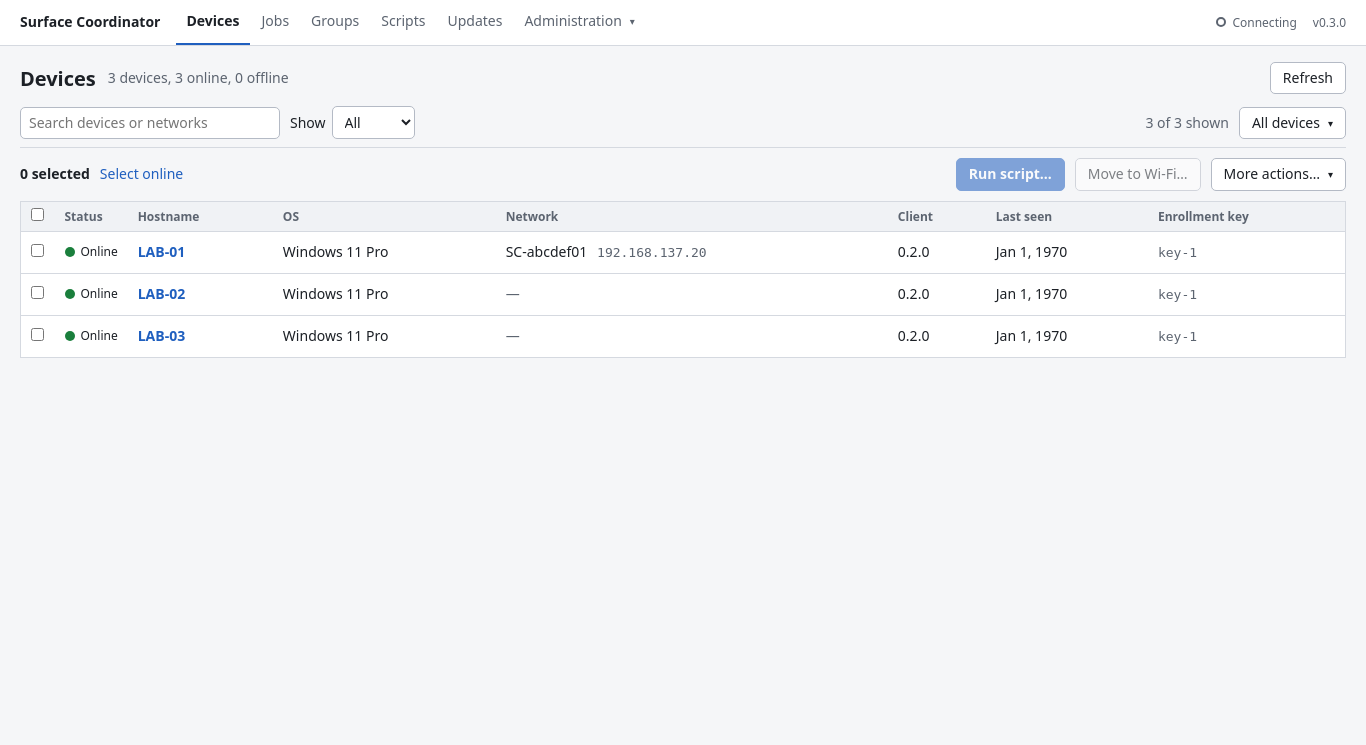
Test: Move to Wi-Fi › moves the selected devices: devices page, form, job page
Click the checkbox named "Select LAB-01": (38, 251) [31,244,44,257]
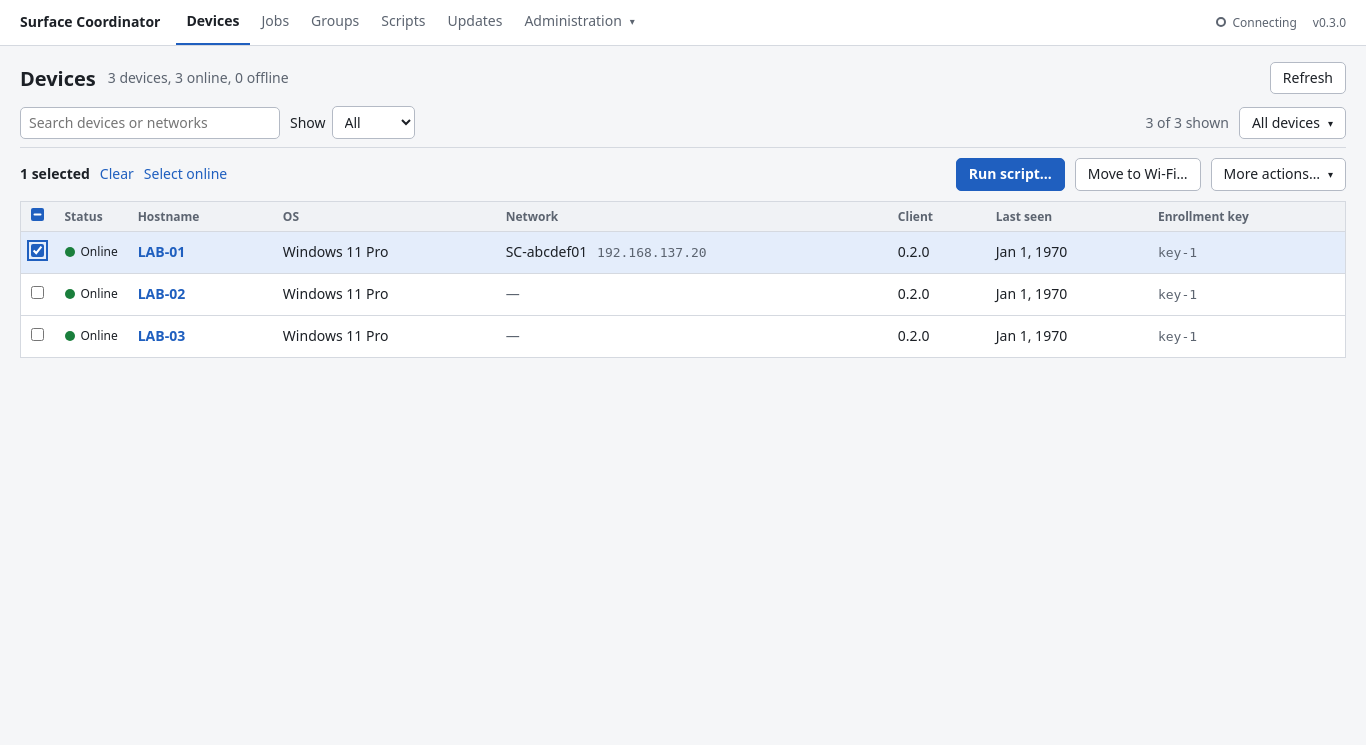
Click the checkbox named "Select LAB-03": (38, 334) [31,328,44,341]
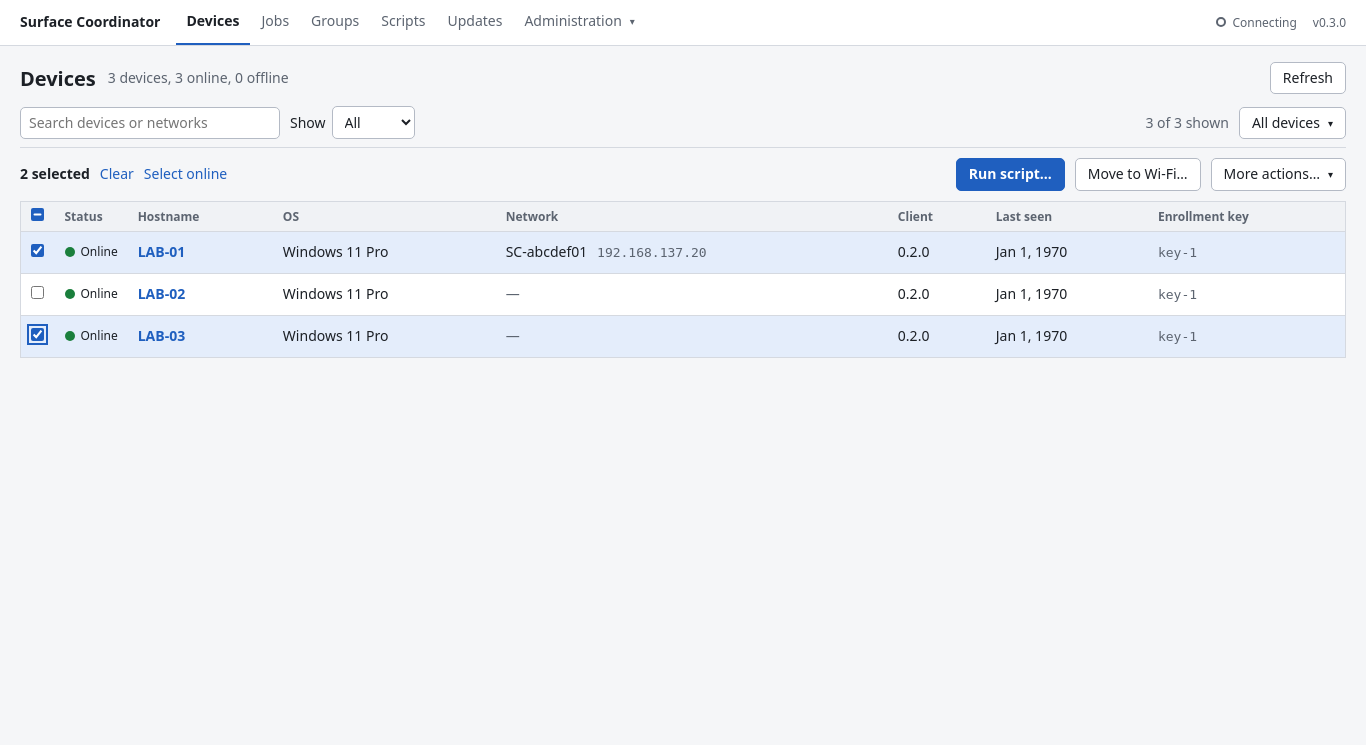
Click the button "Move to Wi-Fi…": (1138, 174) [1075,158,1201,191]
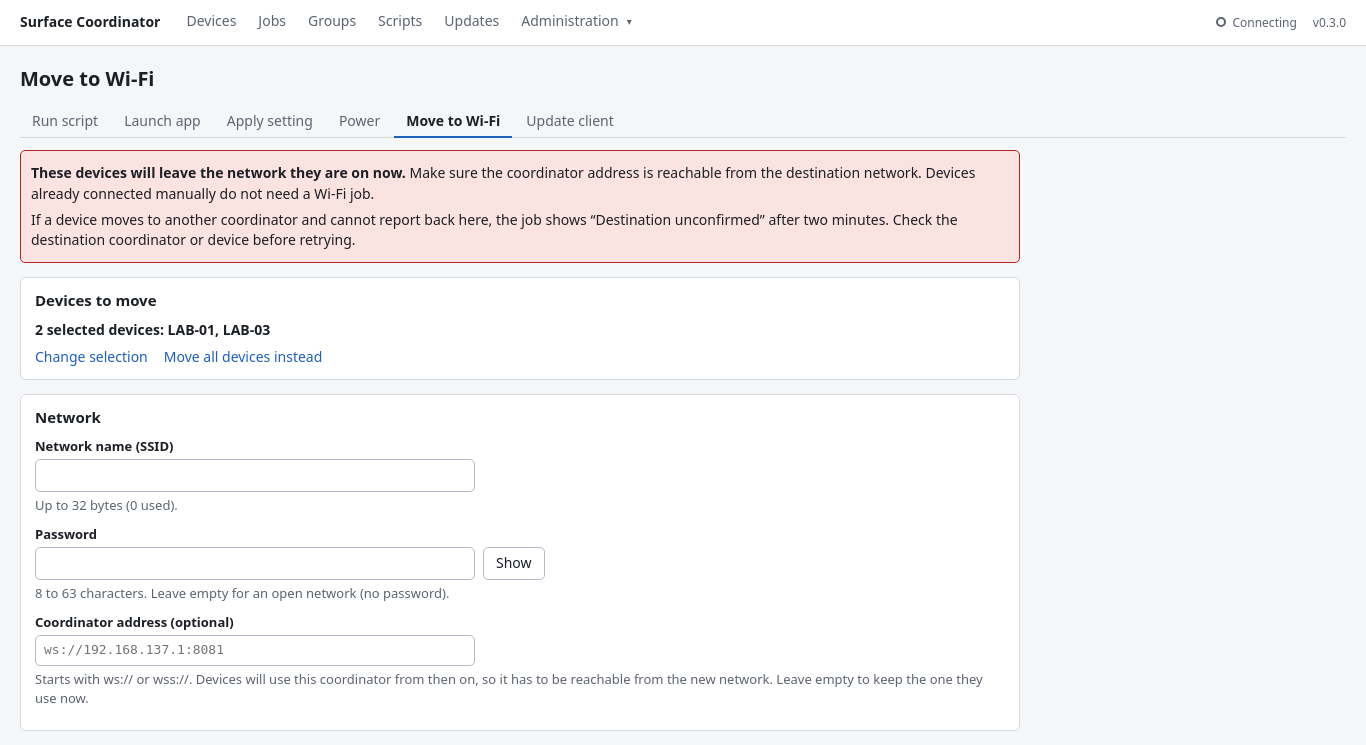
Check: the heading "Move to Wi-Fi" is shown, box [20,64,154,92]
Check: the text "2 selected devices: LAB-01, LAB-03" is shown, box [35,320,270,339]
In the field labelled "Network name (SSID)": (255, 476) [35,459,475,492], type "Classroom"
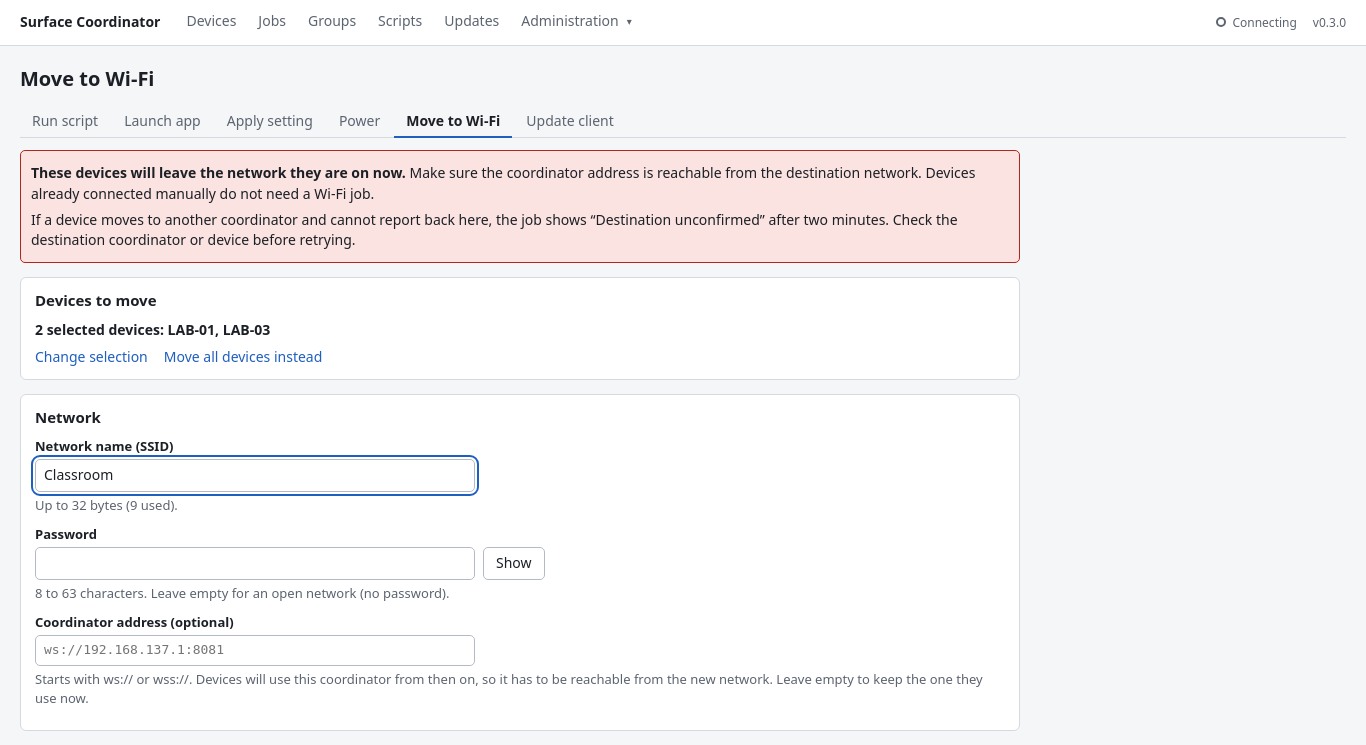
In the password field labelled "Password": (255, 564) [35,547,475,580], type "correct horse"
(page scrolled)
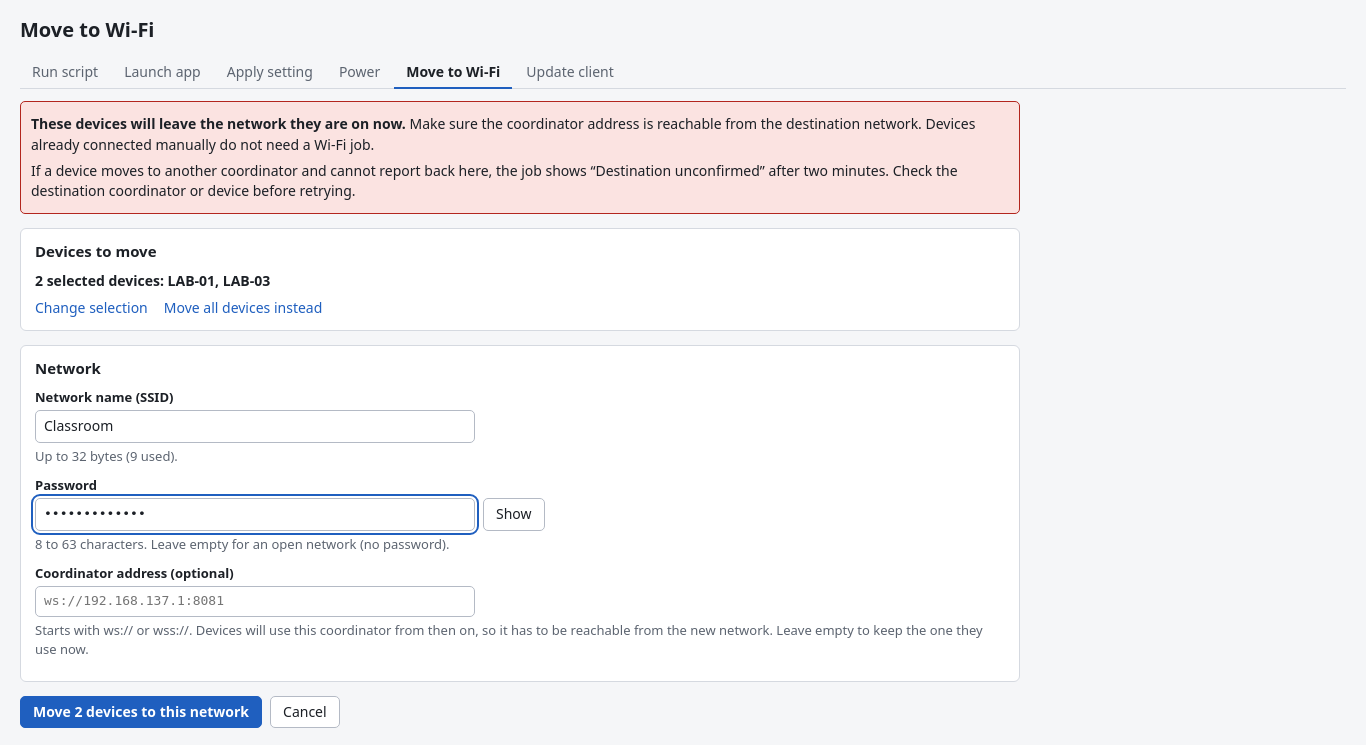
Click the button "Move 2 devices to this network": (141, 712) [20,696,262,728]
(page scrolled)
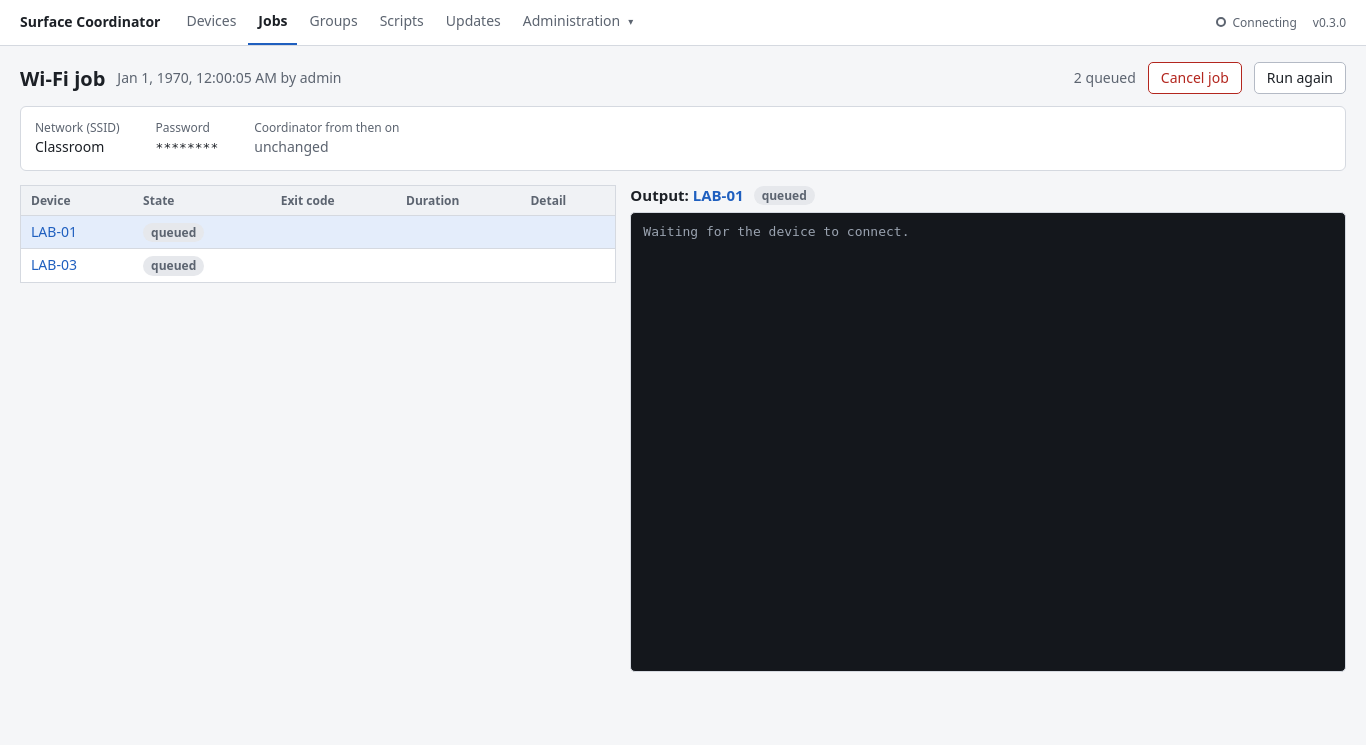
Check: the heading "Wi-Fi job" is shown, box [20,64,105,93]
Check: the text "Classroom" is shown, box [35,137,104,156]
Check: the text "********" is shown, box [156,140,218,155]
